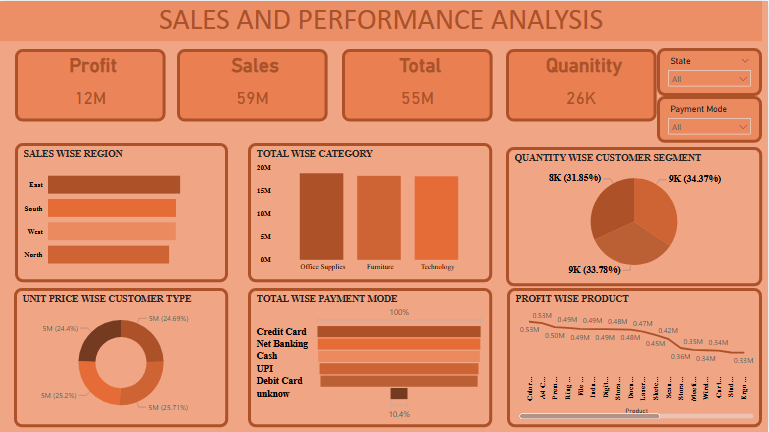

The page's visual inventory and layout, read from the dashboard file:
{"tool":"powerbi","page":{"name":"Page 1","canvas":[1280,720],"ordinal":0},"visuals":[{"type":"textbox","title":"SUPERSTORE SALES AND PERFORMANCE DASHBOARD","box":[0,0,1279.8,66.6],"z":0},{"type":"card","title":"Profit","fields":{"Values":["Sum(Superstore Cleaned data.Profit)"]},"box":[24.5,79.2,250.6,121],"z":1000},{"type":"card","title":"Sales","fields":{"Values":["Sum(Superstore Cleaned data.Sales)"]},"box":[295.2,79.2,250.6,121],"z":2000},{"type":"card","title":"Total","fields":{"Values":["Sum(Superstore Cleaned data.Total)"]},"box":[570.2,79.2,250.6,121],"z":3000},{"type":"card","title":"Quanitity","fields":{"Values":["Sum(Superstore Cleaned data.Quantity)"]},"box":[843.8,79.2,250.6,121],"z":4000},{"type":"barChart","title":"SALES WISE REGION","fields":{"Category":["Superstore Cleaned data.Region"],"Y":["Sum(Superstore Cleaned data.Sales)"]},"box":[25,236.7,355,231.7],"z":5000},{"type":"columnChart","title":"TOTAL WISE CATEGORY","fields":{"Y":["Sum(Superstore Cleaned data.Total)"],"Category":["Superstore Cleaned data.Category"]},"box":[413.3,236.7,406.7,231.7],"z":6000},{"type":"pieChart","title":"QUANTITY WISE CUSTOMER SEGMENT","fields":{"Y":["Sum(Superstore Cleaned data.Quantity)"],"Category":["Superstore Cleaned data.Customer Segment"]},"box":[843.3,243.3,426.7,231.7],"z":7000},{"type":"donutChart","title":"UNIT PRICE WISE CUSTOMER TYPE","fields":{"Y":["Sum(Superstore Cleaned data.Unit Price)"],"Series":["Superstore Cleaned data.Customer Type"]},"box":[23.3,478.3,356.7,231.7],"z":8000},{"type":"slicer","fields":{"Values":["Superstore Cleaned data.Payment Mode"]},"box":[1095,158.3,175,78.3],"z":9000},{"type":"slicer","fields":{"Values":["Superstore Cleaned data.State"]},"box":[1095,78.3,175,80],"z":10000},{"type":"funnel","title":"TOTAL WISE PAYMENT MODE","fields":{"Y":["Sum(Superstore Cleaned data.Total)"],"Category":["Superstore Cleaned data.Payment Mode"]},"box":[413.3,478.3,406.7,231.7],"z":11000},{"type":"lineChart","title":"TOP 5 PRODUCT WISE PROFIT","fields":{"Y":["Sum(Superstore Cleaned data.Profit)"],"Category":["Superstore Cleaned data.Product"]},"box":[845,478.3,425,231.7],"z":12000}]}

Visuals, with their boxes in screenshot pixels (x1, y1, x2, y2), scaled from the page's 1280x720 canvas onto the 769x432 screenshot:
"SUPERSTORE SALES AND PERFORMANCE DASHBOARD" textbox: x1=0, y1=0, x2=768, y2=40
"Profit" card: x1=15, y1=48, x2=165, y2=120
"Sales" card: x1=177, y1=48, x2=328, y2=120
"Total" card: x1=343, y1=48, x2=493, y2=120
"Quanitity" card: x1=507, y1=48, x2=657, y2=120
"SALES WISE REGION" barChart: x1=15, y1=142, x2=228, y2=281
"TOTAL WISE CATEGORY" columnChart: x1=248, y1=142, x2=493, y2=281
"QUANTITY WISE CUSTOMER SEGMENT" pieChart: x1=507, y1=146, x2=763, y2=285
"UNIT PRICE WISE CUSTOMER TYPE" donutChart: x1=14, y1=287, x2=228, y2=426
slicer - Superstore Cleaned data.Payment Mode: x1=658, y1=95, x2=763, y2=142
slicer - Superstore Cleaned data.State: x1=658, y1=47, x2=763, y2=95
"TOTAL WISE PAYMENT MODE" funnel: x1=248, y1=287, x2=493, y2=426
"TOP 5 PRODUCT WISE PROFIT" lineChart: x1=508, y1=287, x2=763, y2=426
